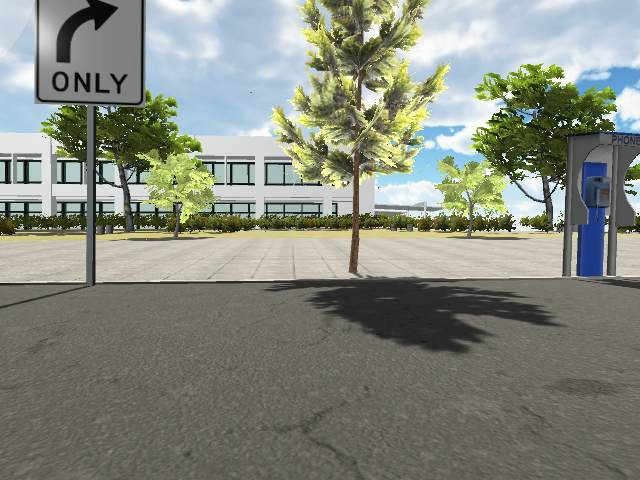arrow_right: (52, 1, 118, 64)
